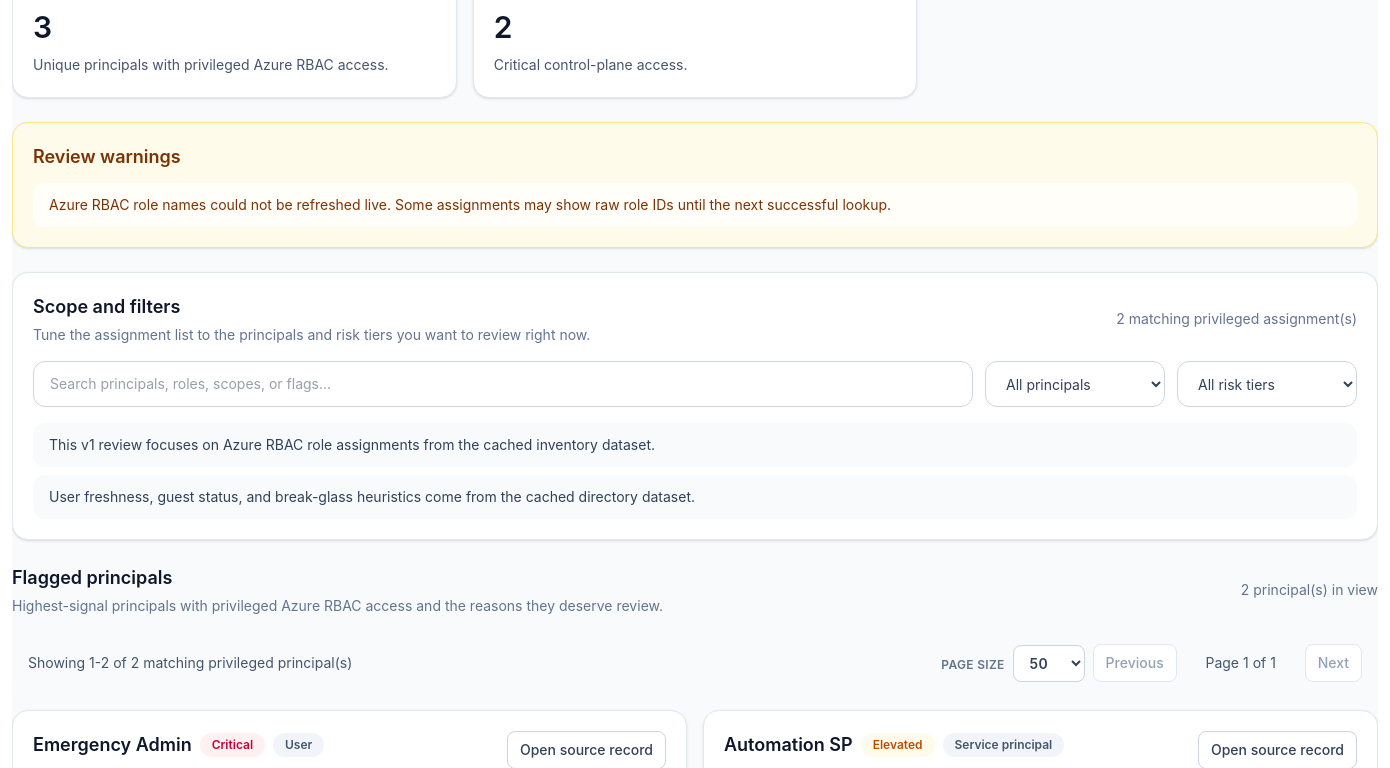
AzureSecurityAccessReviewPage › filters the assignment table by search and principal type
(page scrolled)
Type "Automation" into the search field with placeholder "Search principals, roles, scopes, or flags...".
click(503, 384); type("Automation")  # box top-left (33, 361), bottom-right (973, 407)
(page scrolled)
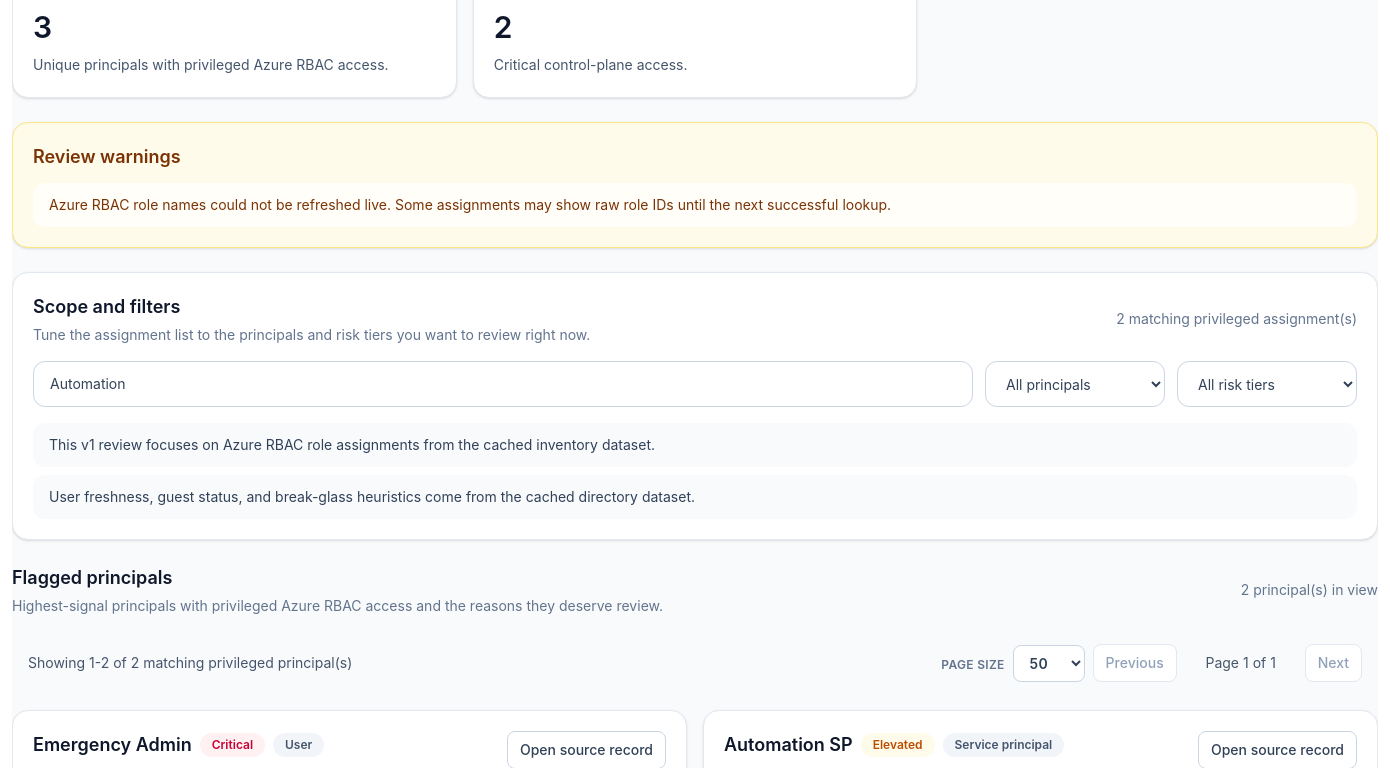
Select "Service principals" in the 1st dropdown showing "All principals" at point(1075, 384), box top-left (985, 361), bottom-right (1165, 407)
(page scrolled)
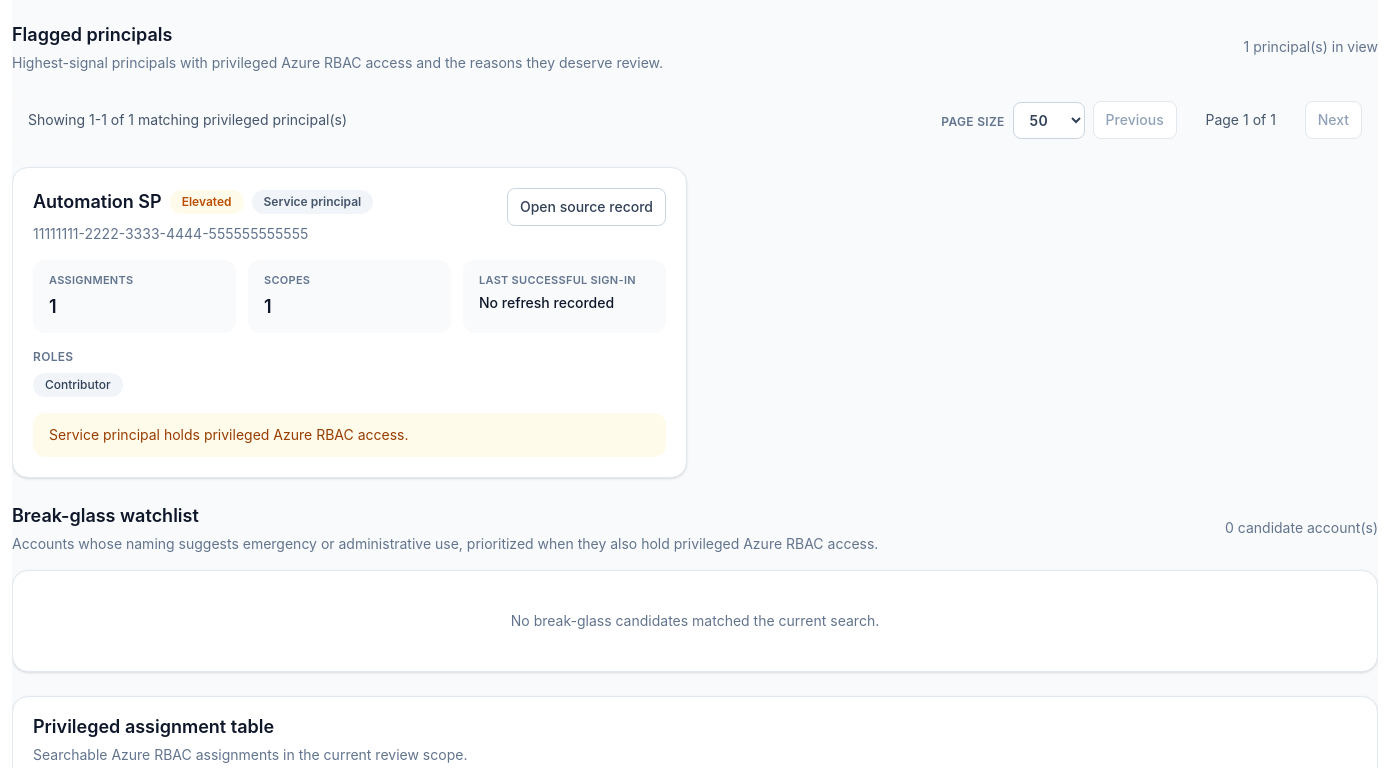
Expected: the heading "Automation SP" is shown, top-left (33, 188), bottom-right (162, 216)
Expected: no headings "Emergency Admin" are shown
